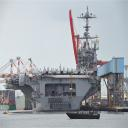Portanaves: (6, 6, 104, 115)
